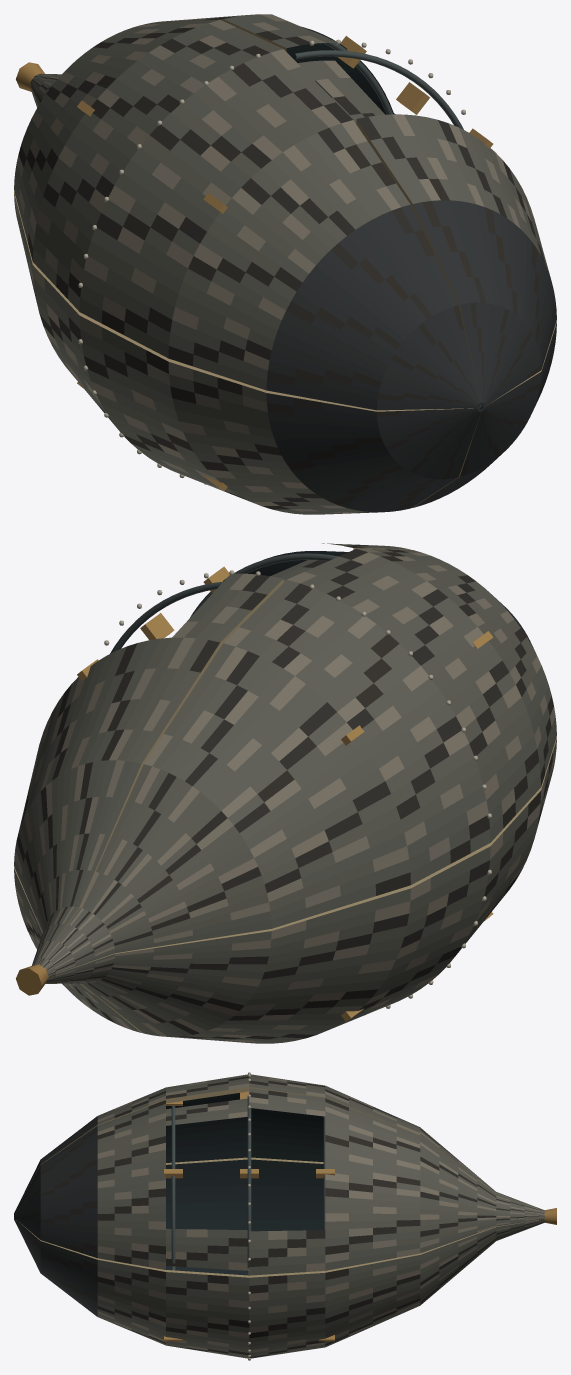
The model's file is feids26_d3_lod0.glb.
3 renders of one model, top to bottom at view 1: azimuth 30°, elevation 25°; view 2: azimuth 150°, elevation 25°; view 3: azimuth 270°, elevation 25°, orthographic. The views are drawn at different scales.
Parts seen in each view (by area): view 1: SHELL_ARMOR_2, SHELL_ARMOR_3, SHELL_ARMOR_1, SHELL_ARMOR_4; view 2: SHELL_ARMOR_2, SHELL_ARMOR_3, SHELL_ARMOR_1, SHELL_ARMOR_4, TAIL_TELEMETRY; view 3: SHELL_ARMOR_1, SHELL_ARMOR_4, SHELL_ARMOR_2, SHELL_ARMOR_3.
Boxes of the visible parts, bbox=[...] form: SHELL_ARMOR_2: bbox=[14, 20, 481, 410]; SHELL_ARMOR_3: bbox=[14, 87, 481, 514]; SHELL_ARMOR_1: bbox=[41, 14, 556, 406]; SHELL_ARMOR_4: bbox=[412, 321, 556, 507]; SHELL_ARMOR_2: bbox=[40, 548, 556, 975]; SHELL_ARMOR_3: bbox=[45, 737, 556, 1043]; SHELL_ARMOR_1: bbox=[14, 543, 410, 965]; SHELL_ARMOR_4: bbox=[14, 867, 142, 1032]; TAIL_TELEMETRY: bbox=[16, 964, 48, 995]; SHELL_ARMOR_1: bbox=[14, 1088, 544, 1275]; SHELL_ARMOR_4: bbox=[14, 1218, 544, 1360]; SHELL_ARMOR_2: bbox=[14, 1072, 544, 1212]; SHELL_ARMOR_3: bbox=[166, 1157, 323, 1275].
Bounding box in the file's own units: 7.55 × 7.55 × 14.3.
